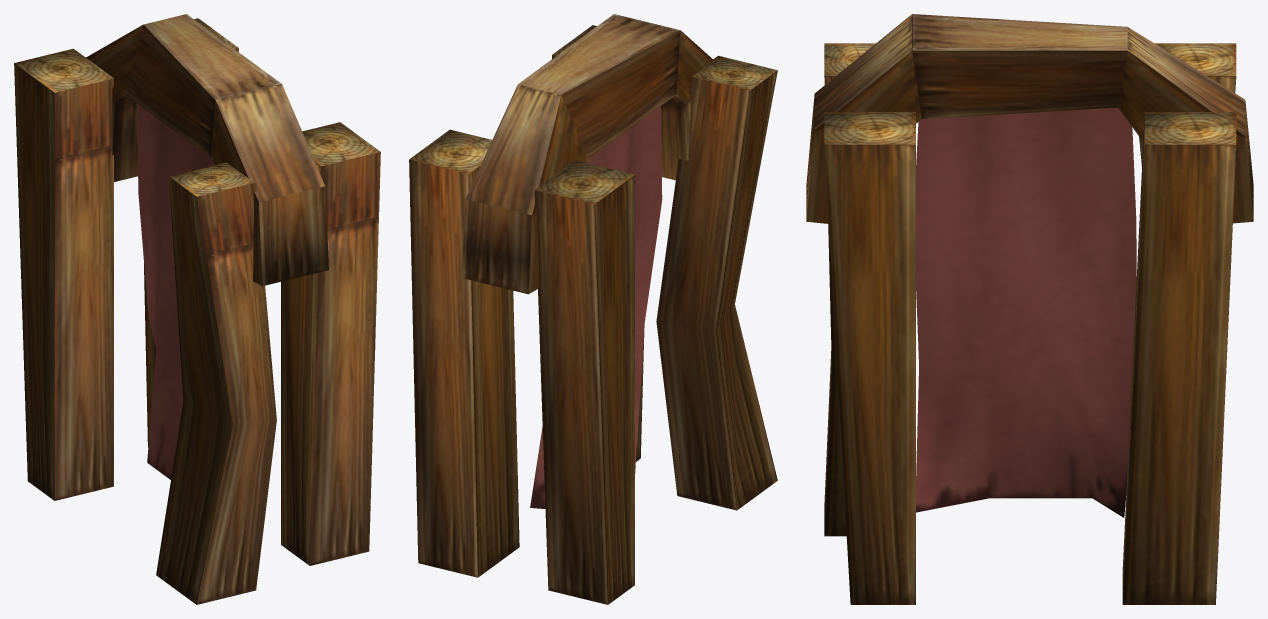
Rendered from a_SWGuwallcloth.glb.
3 renders of one model, left to right at view 1: azimuth 30°, elevation 25°; view 2: azimuth 150°, elevation 25°; view 3: azimuth 270°, elevation 25°, orthographic. The views are drawn at different scales.
Parts seen in each view (by area): view 1: a_SWGuwallcloth; view 2: a_SWGuwallcloth; view 3: a_SWGuwallcloth.
Part boxes in pixels (<box>): a_SWGuwallcloth: <box>14,14,380,604</box>; a_SWGuwallcloth: <box>409,14,777,604</box>; a_SWGuwallcloth: <box>806,14,1253,604</box>.
Bounding box in the file's own units: 0.9527 × 2.28 × 1.78.
2 materials, 2 textured.
